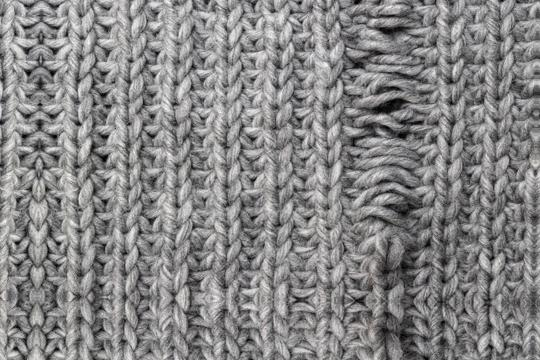slub: (333, 1, 445, 232)
